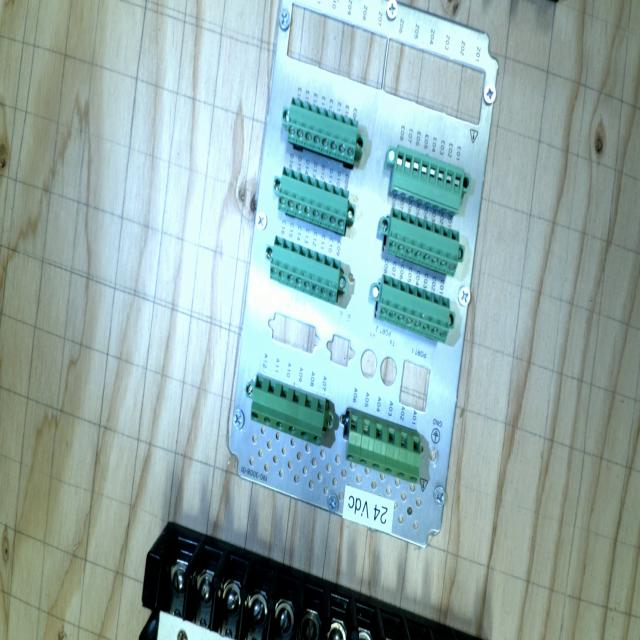Terminal_1: (241, 374, 336, 446), (336, 414, 431, 484)
Terminal_2: (260, 234, 352, 305), (377, 207, 469, 277), (368, 274, 460, 343), (268, 166, 359, 235), (278, 98, 368, 165)
